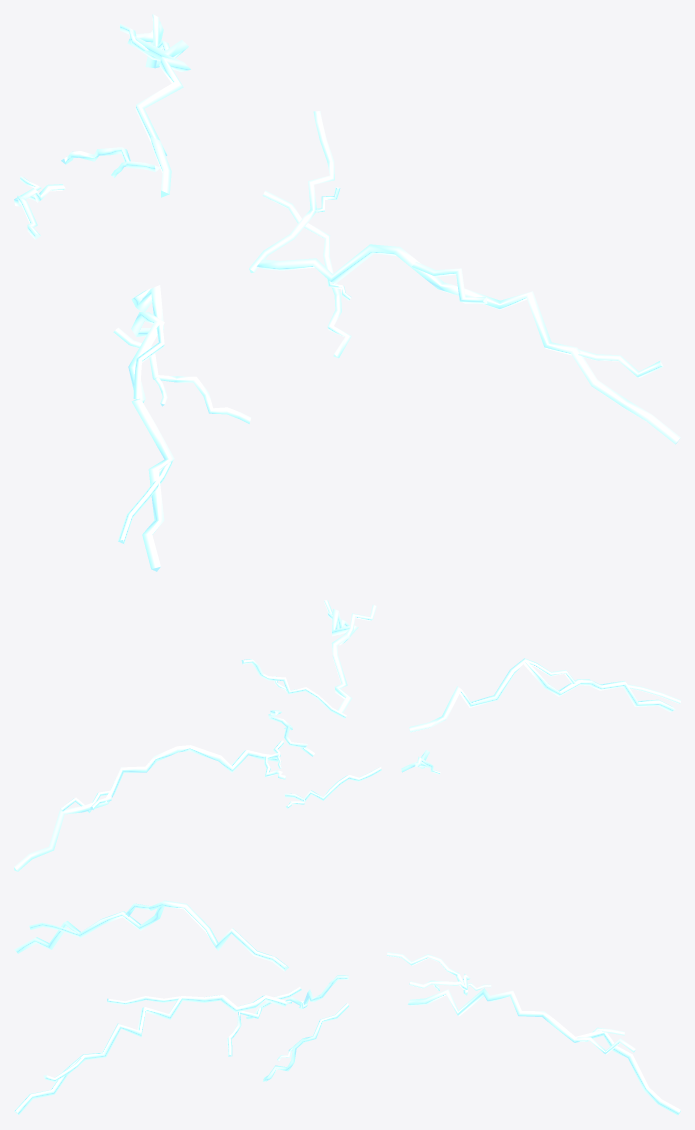
Rendered from mdt_arcs.glb.
3 renders of one model, top to bottom at view 1: azimuth 30°, elevation 25°; view 2: azimuth 150°, elevation 25°; view 3: azimuth 270°, elevation 25°, orthographic. The views are drawn at different scales.
Visible parts, largest first — view 1: glow_blue__mdt_arcs__ns; view 2: glow_blue__mdt_arcs__ns; view 3: glow_blue__mdt_arcs__ns.
Boxes of the visible parts, bbox=[...] form: glow_blue__mdt_arcs__ns: bbox=[14, 14, 680, 571]; glow_blue__mdt_arcs__ns: bbox=[14, 600, 680, 871]; glow_blue__mdt_arcs__ns: bbox=[14, 900, 680, 1115].
Size of the model in its own units: 2.18 by 0.7677 by 3.56.
